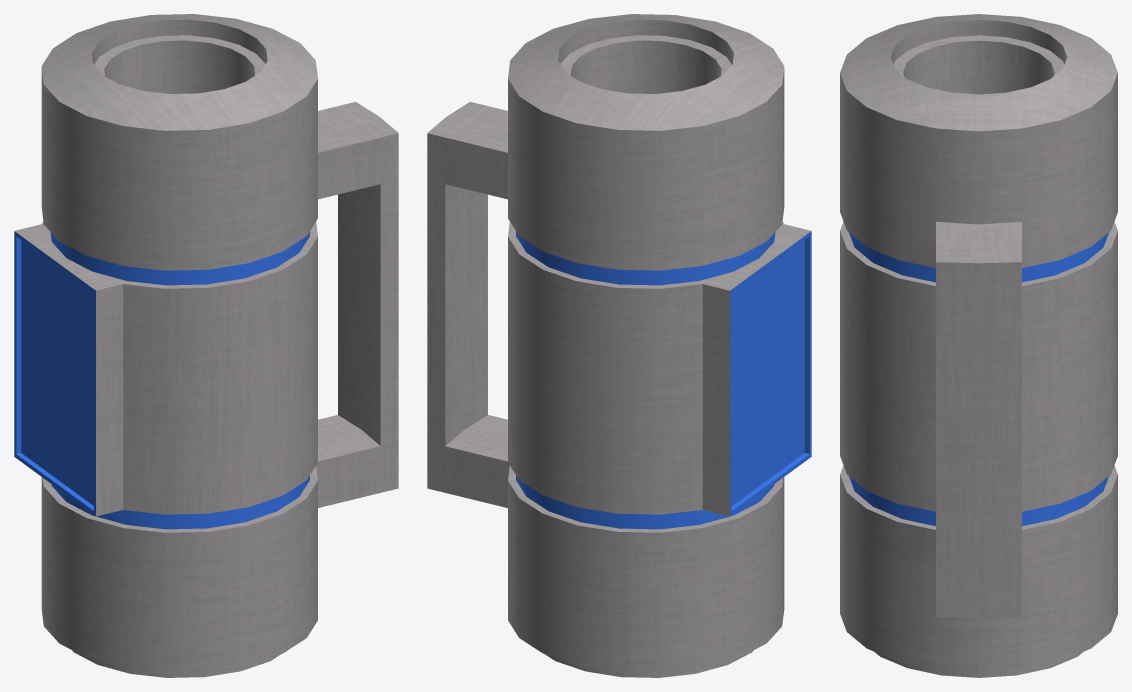
File: Power_Cell.fbx
3 renders of one model, left to right at view 1: azimuth 30°, elevation 25°; view 2: azimuth 150°, elevation 25°; view 3: azimuth 270°, elevation 25°, orthographic.
Parts seen in each view (by area): view 1: polySurface1; view 2: polySurface1; view 3: polySurface1.
Boxes of the visible parts, x1,y1,x2,y2 form: polySurface1: (14, 14, 398, 677); polySurface1: (427, 14, 811, 677); polySurface1: (840, 14, 1117, 677).
Bounding box in the file's own units: 13.48 × 22.61 × 10.
